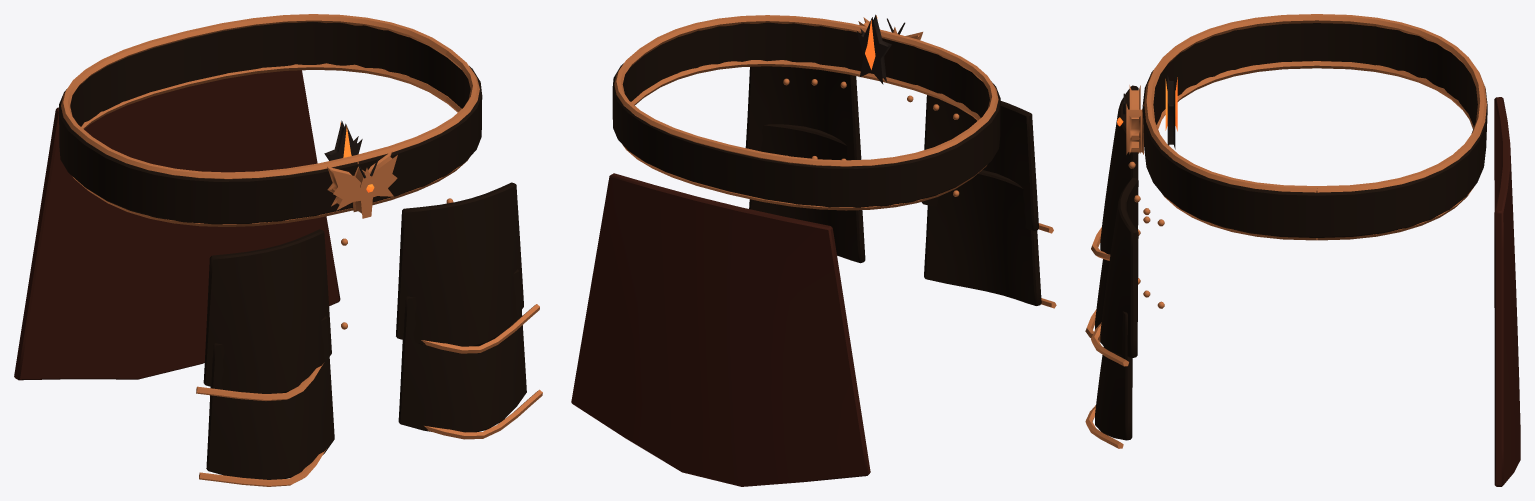
Rendered from asc_cinderbolt_ballista_inner.glb.
3 renders of one model, left to right at view 1: azimuth 30°, elevation 25°; view 2: azimuth 150°, elevation 25°; view 3: azimuth 270°, elevation 25°, orthographic. The views are drawn at different scales.
Visible parts, largest first — view 1: asc_cinderbolt_ballista_inner, AT_thigh_R, AT_thigh_L; view 2: asc_cinderbolt_ballista_inner, AT_thigh_R, AT_thigh_L; view 3: asc_cinderbolt_ballista_inner, AT_thigh_L, AT_thigh_R.
Part boxes in pixels (x1,y1,x2,y2): asc_cinderbolt_ballista_inner: (14, 14, 482, 380); AT_thigh_R: (196, 229, 347, 486); AT_thigh_L: (396, 182, 542, 439); asc_cinderbolt_ballista_inner: (571, 14, 1000, 486); AT_thigh_R: (907, 95, 1056, 308); AT_thigh_L: (745, 66, 865, 263); asc_cinderbolt_ballista_inner: (1117, 14, 1520, 486); AT_thigh_L: (1085, 177, 1164, 448); AT_thigh_R: (1085, 85, 1150, 341).
Bounding box in the file's own units: 0.4641 × 0.4504 × 0.4788.
